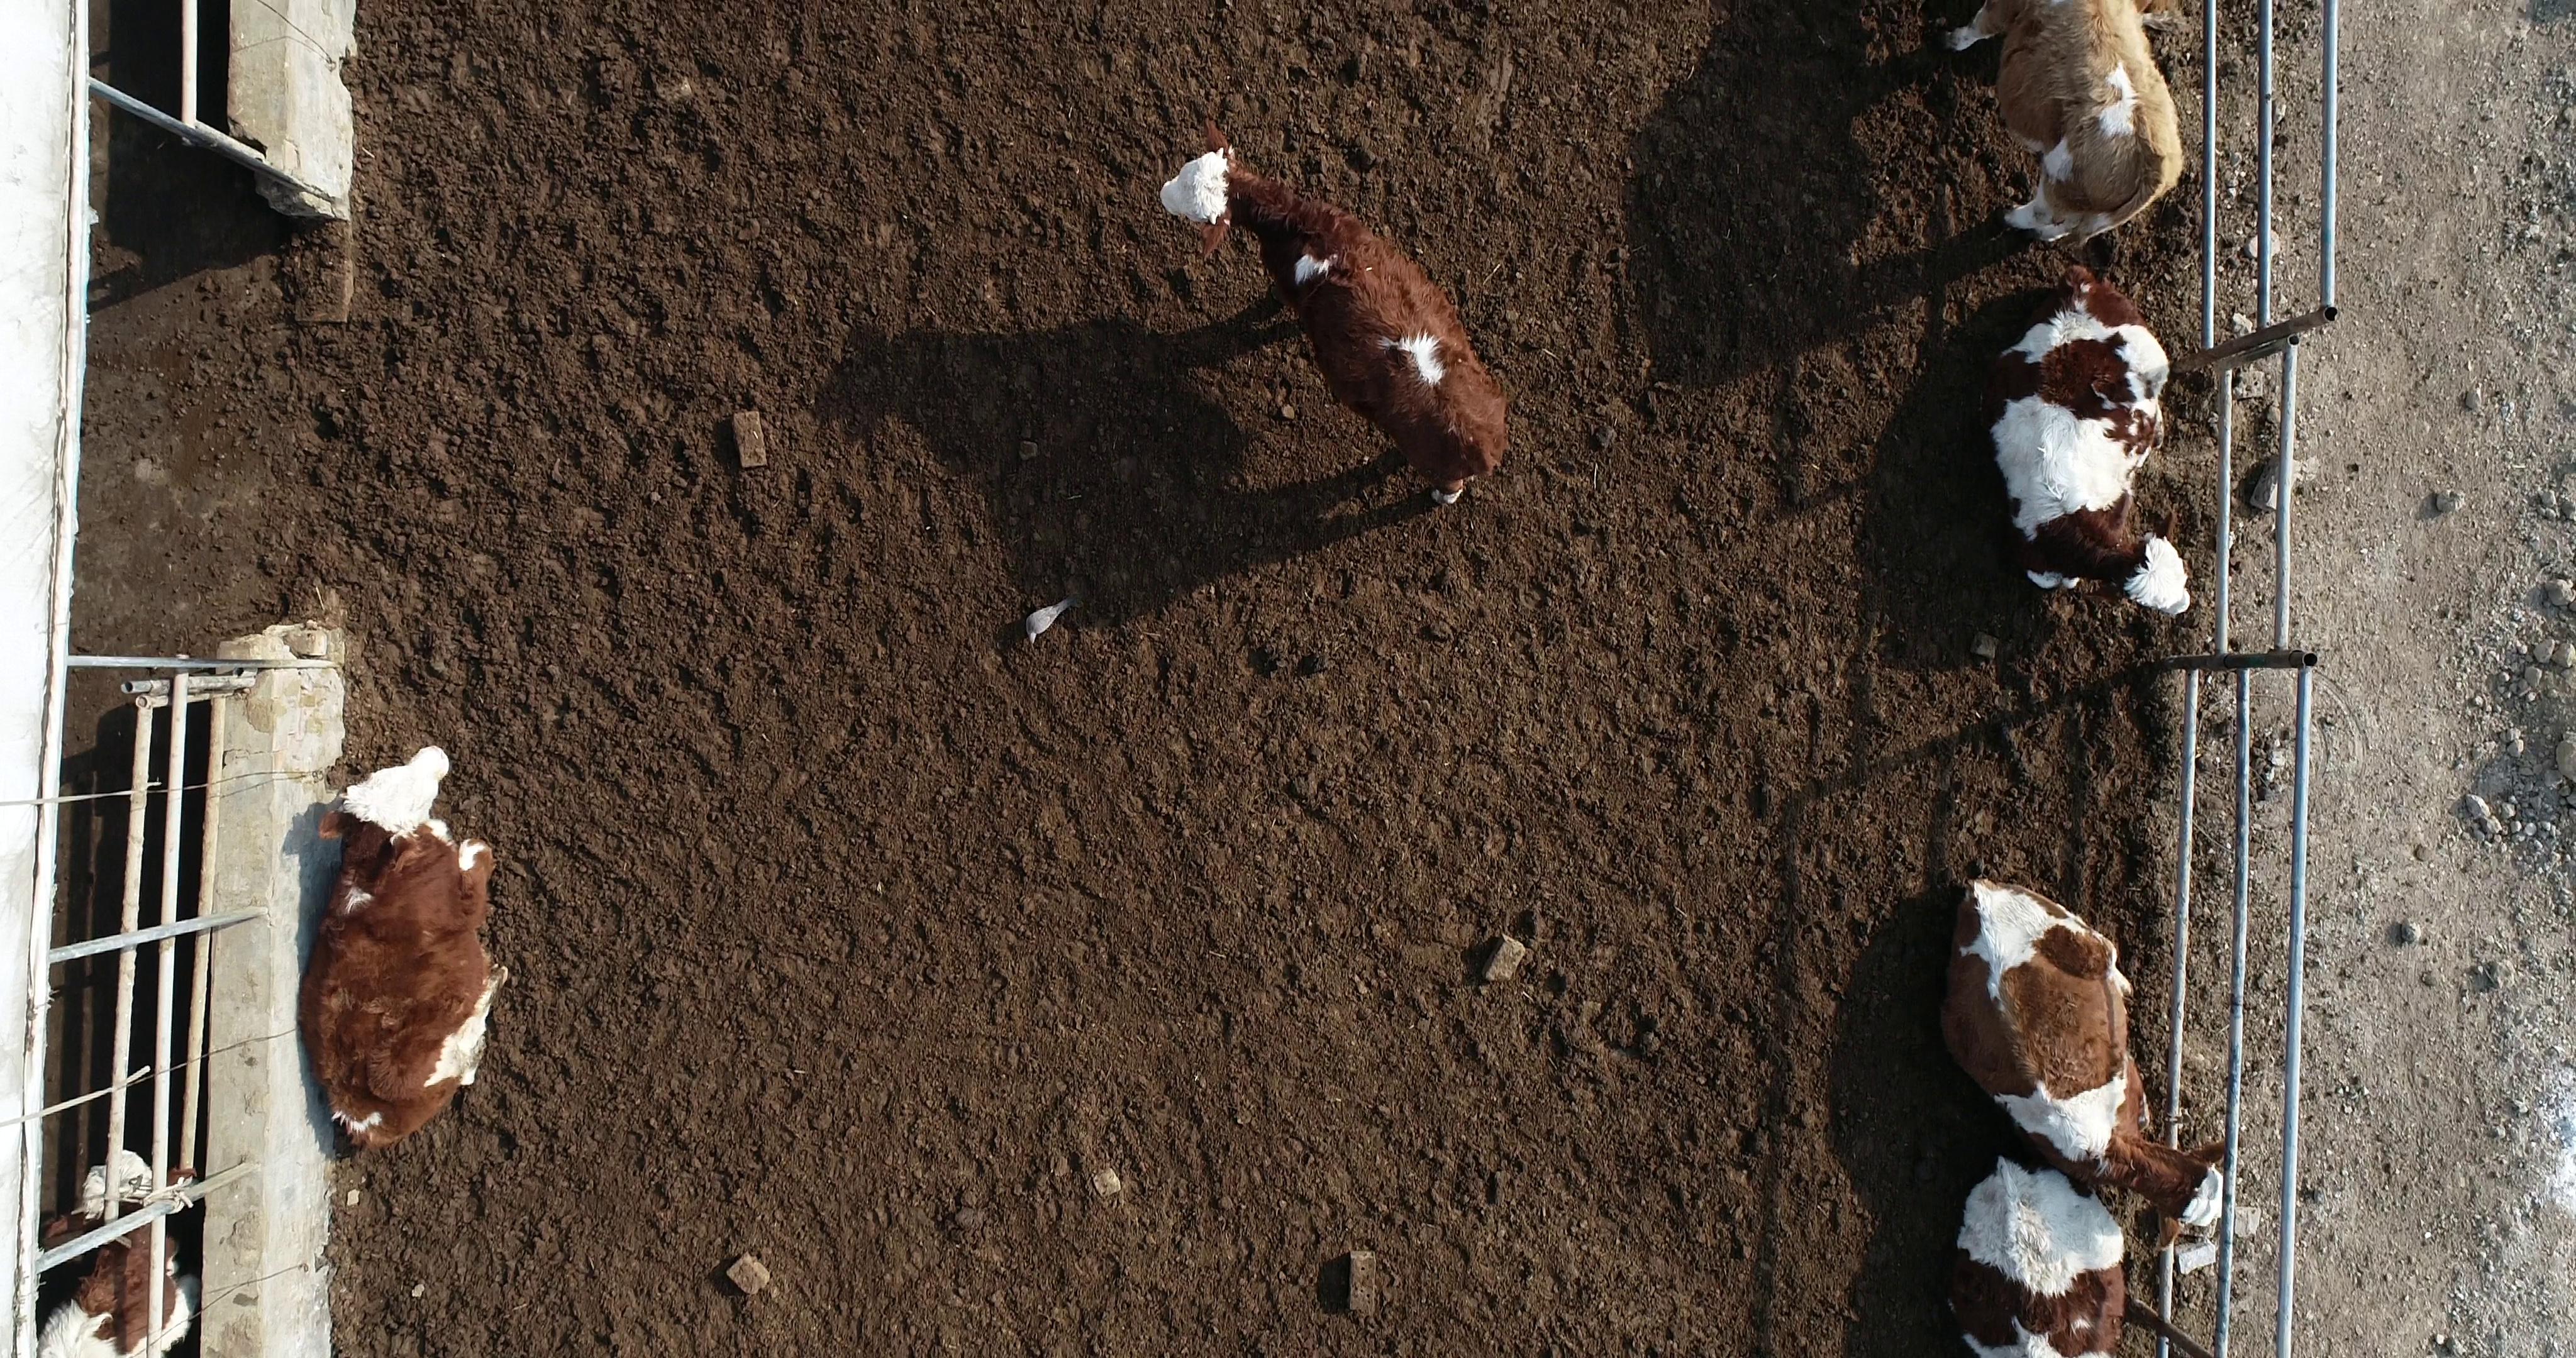cattle: (1153, 118, 1515, 513), (1930, 871, 2249, 1252), (291, 739, 516, 1155), (1980, 259, 2198, 624)
